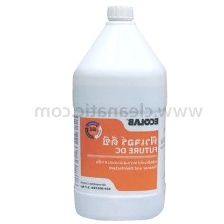cleaning_solution: (70, 1, 170, 223)
